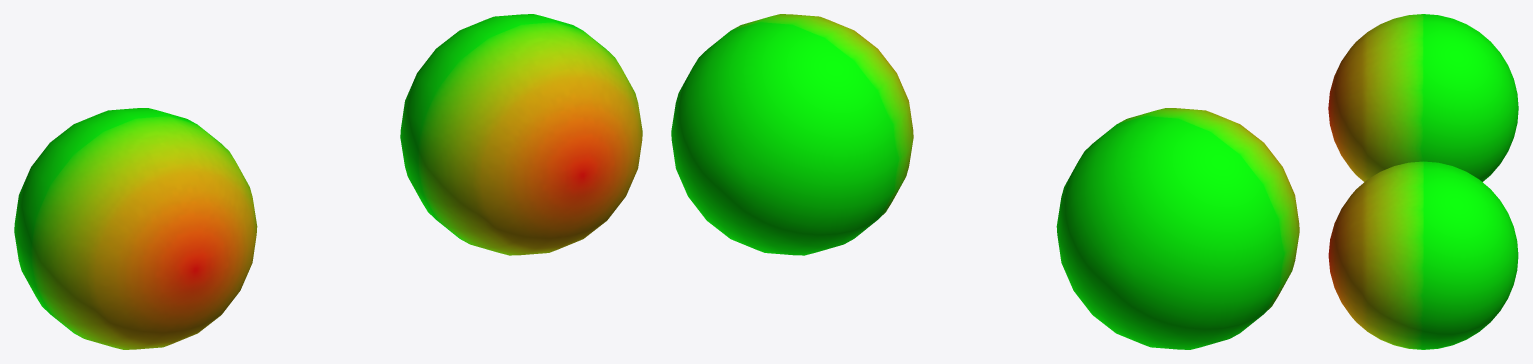
The model's file is Eyes_Basic.obj.
3 renders of one model, left to right at view 1: azimuth 30°, elevation 25°; view 2: azimuth 150°, elevation 25°; view 3: azimuth 270°, elevation 25°, orthographic. The views are drawn at different scales.
Parts seen in each view (by area): view 1: Eyes_Basic_0; view 2: Eyes_Basic_0; view 3: Eyes_Basic_0.
Boxes of the visible parts, x1,y1,x2,y2 form: Eyes_Basic_0: [14, 14, 642, 349]; Eyes_Basic_0: [671, 14, 1299, 349]; Eyes_Basic_0: [1328, 14, 1518, 349].
Size of the model in its own units: 0.126 by 0.0445 by 0.0445.
Materials: 1 (1 with a texture image).
